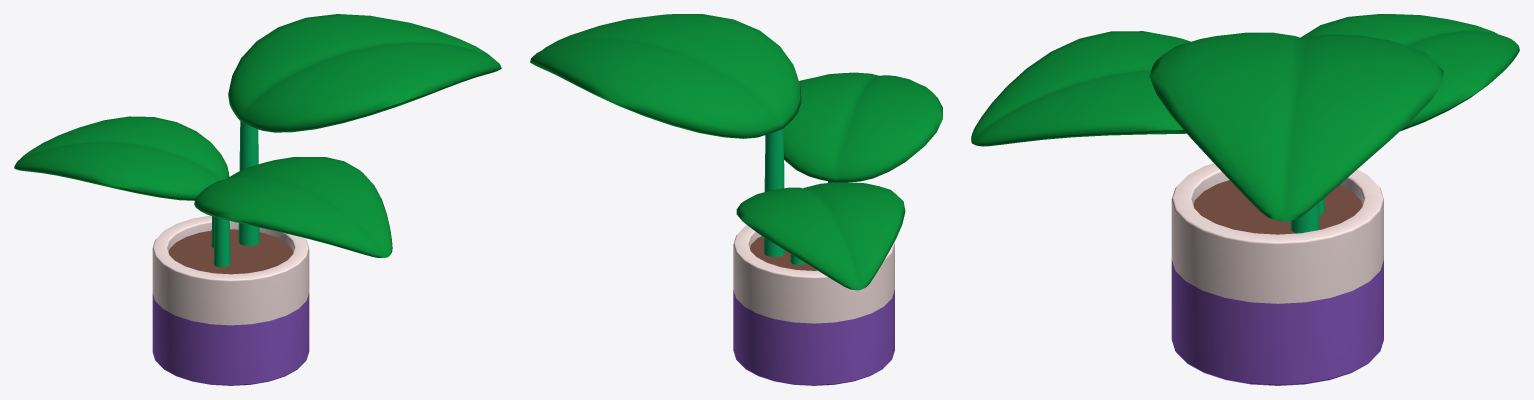
File: City_16_Plant_6.glb
The picture shows the model from 3 angles, left to right: view 1: azimuth 30°, elevation 25°; view 2: azimuth 150°, elevation 25°; view 3: azimuth 270°, elevation 25°; orthographic projection. The views are drawn at different scales.
Parts seen in each view (by area): view 1: City_16_Plant_6; view 2: City_16_Plant_6; view 3: City_16_Plant_6.
Boxes of the visible parts, bbox=[...] form: City_16_Plant_6: bbox=[14, 14, 501, 385]; City_16_Plant_6: bbox=[530, 14, 942, 385]; City_16_Plant_6: bbox=[971, 14, 1519, 385].
Bounding box in the file's own units: 1.37 × 0.8735 × 1.19.
Materials: 1 (1 with a texture image).
